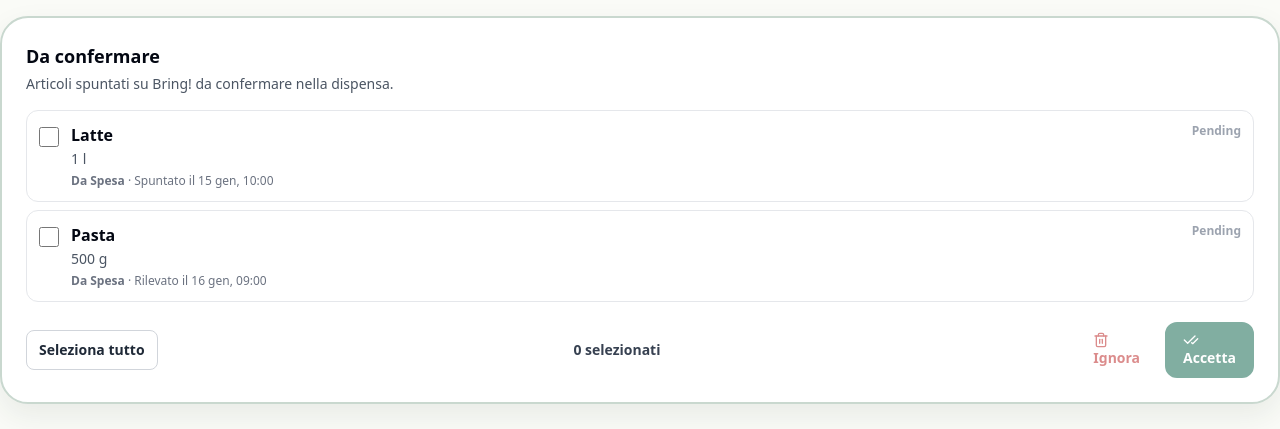
Scenario: CandidatesInbox › accetta ottimisticamente e conferma dopo il successo dell’API
Expected: the text "Latte" is shown, [71, 124, 113, 146]
What coordinates should you click on to do the following:
click the checkbox named "Seleziona Latte"
I would click on:
 (49, 137)
Its box is [39, 127, 59, 147].
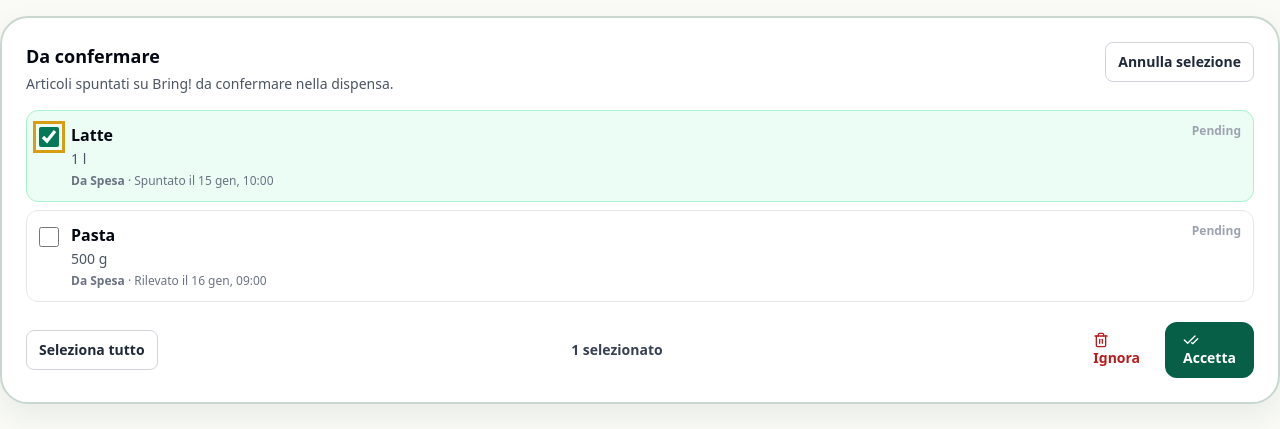
What coordinates should you click on to do the following:
click the button with aria-label "Accetta selezionati"
I would click on:
 (1209, 350)
Its box is [1165, 322, 1254, 378].
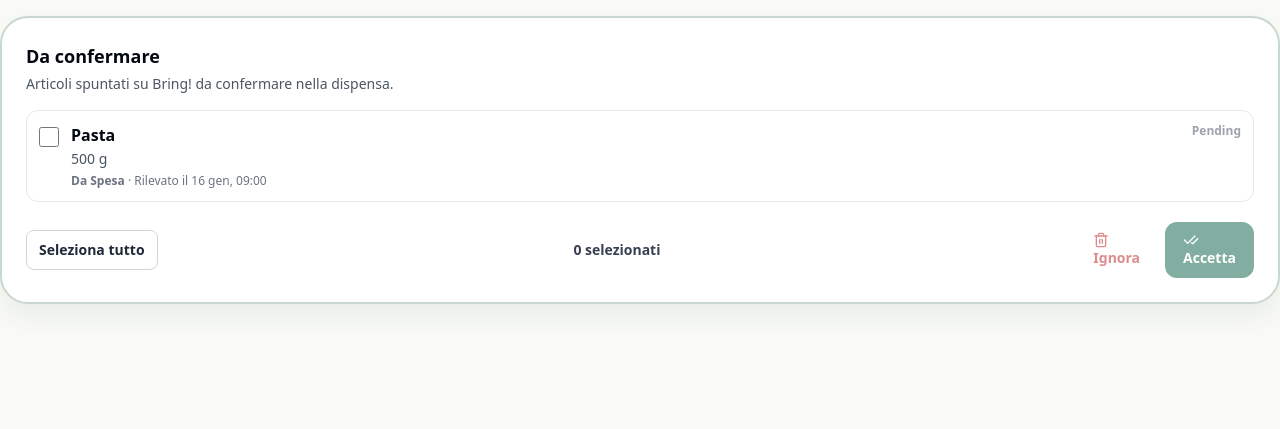
Now the text "Latte" is gone
